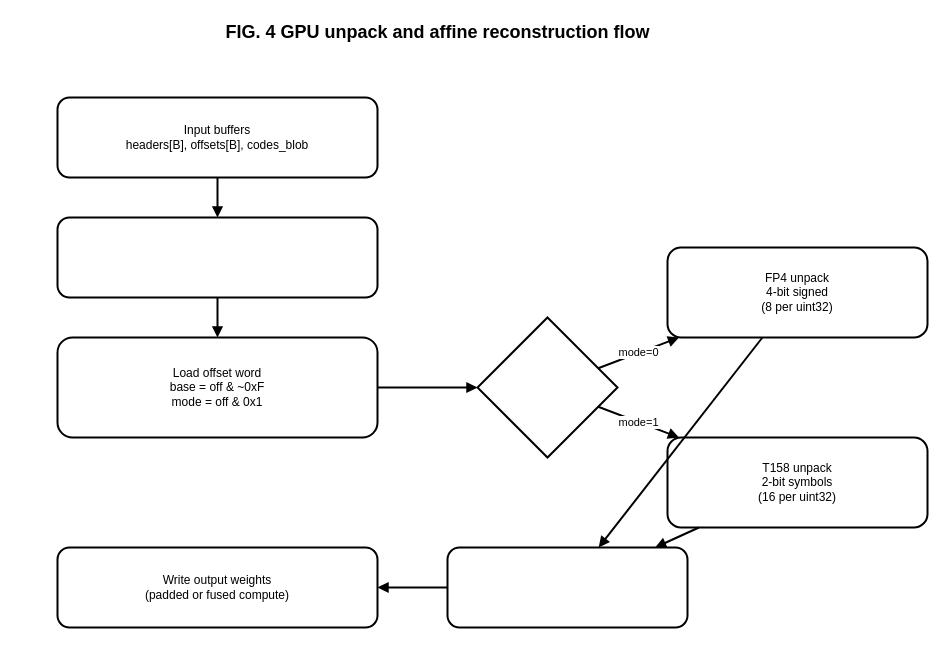
Image size: 945x645. Some labels were removed from this diagram. The shapes that lost their labels are listed below. From the top down, each one's box as (x1, y1, x2, y2) in pixels, then its label:
(56, 216, 378, 298): Load header unpackHalf2(scale, bias)
(476, 316, 618, 458): Decode codes (mode selects unpack)
(446, 546, 688, 628): Affine reconstruct w = S * code + Bias
